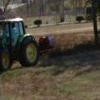Tractor: (2, 10, 45, 75)
